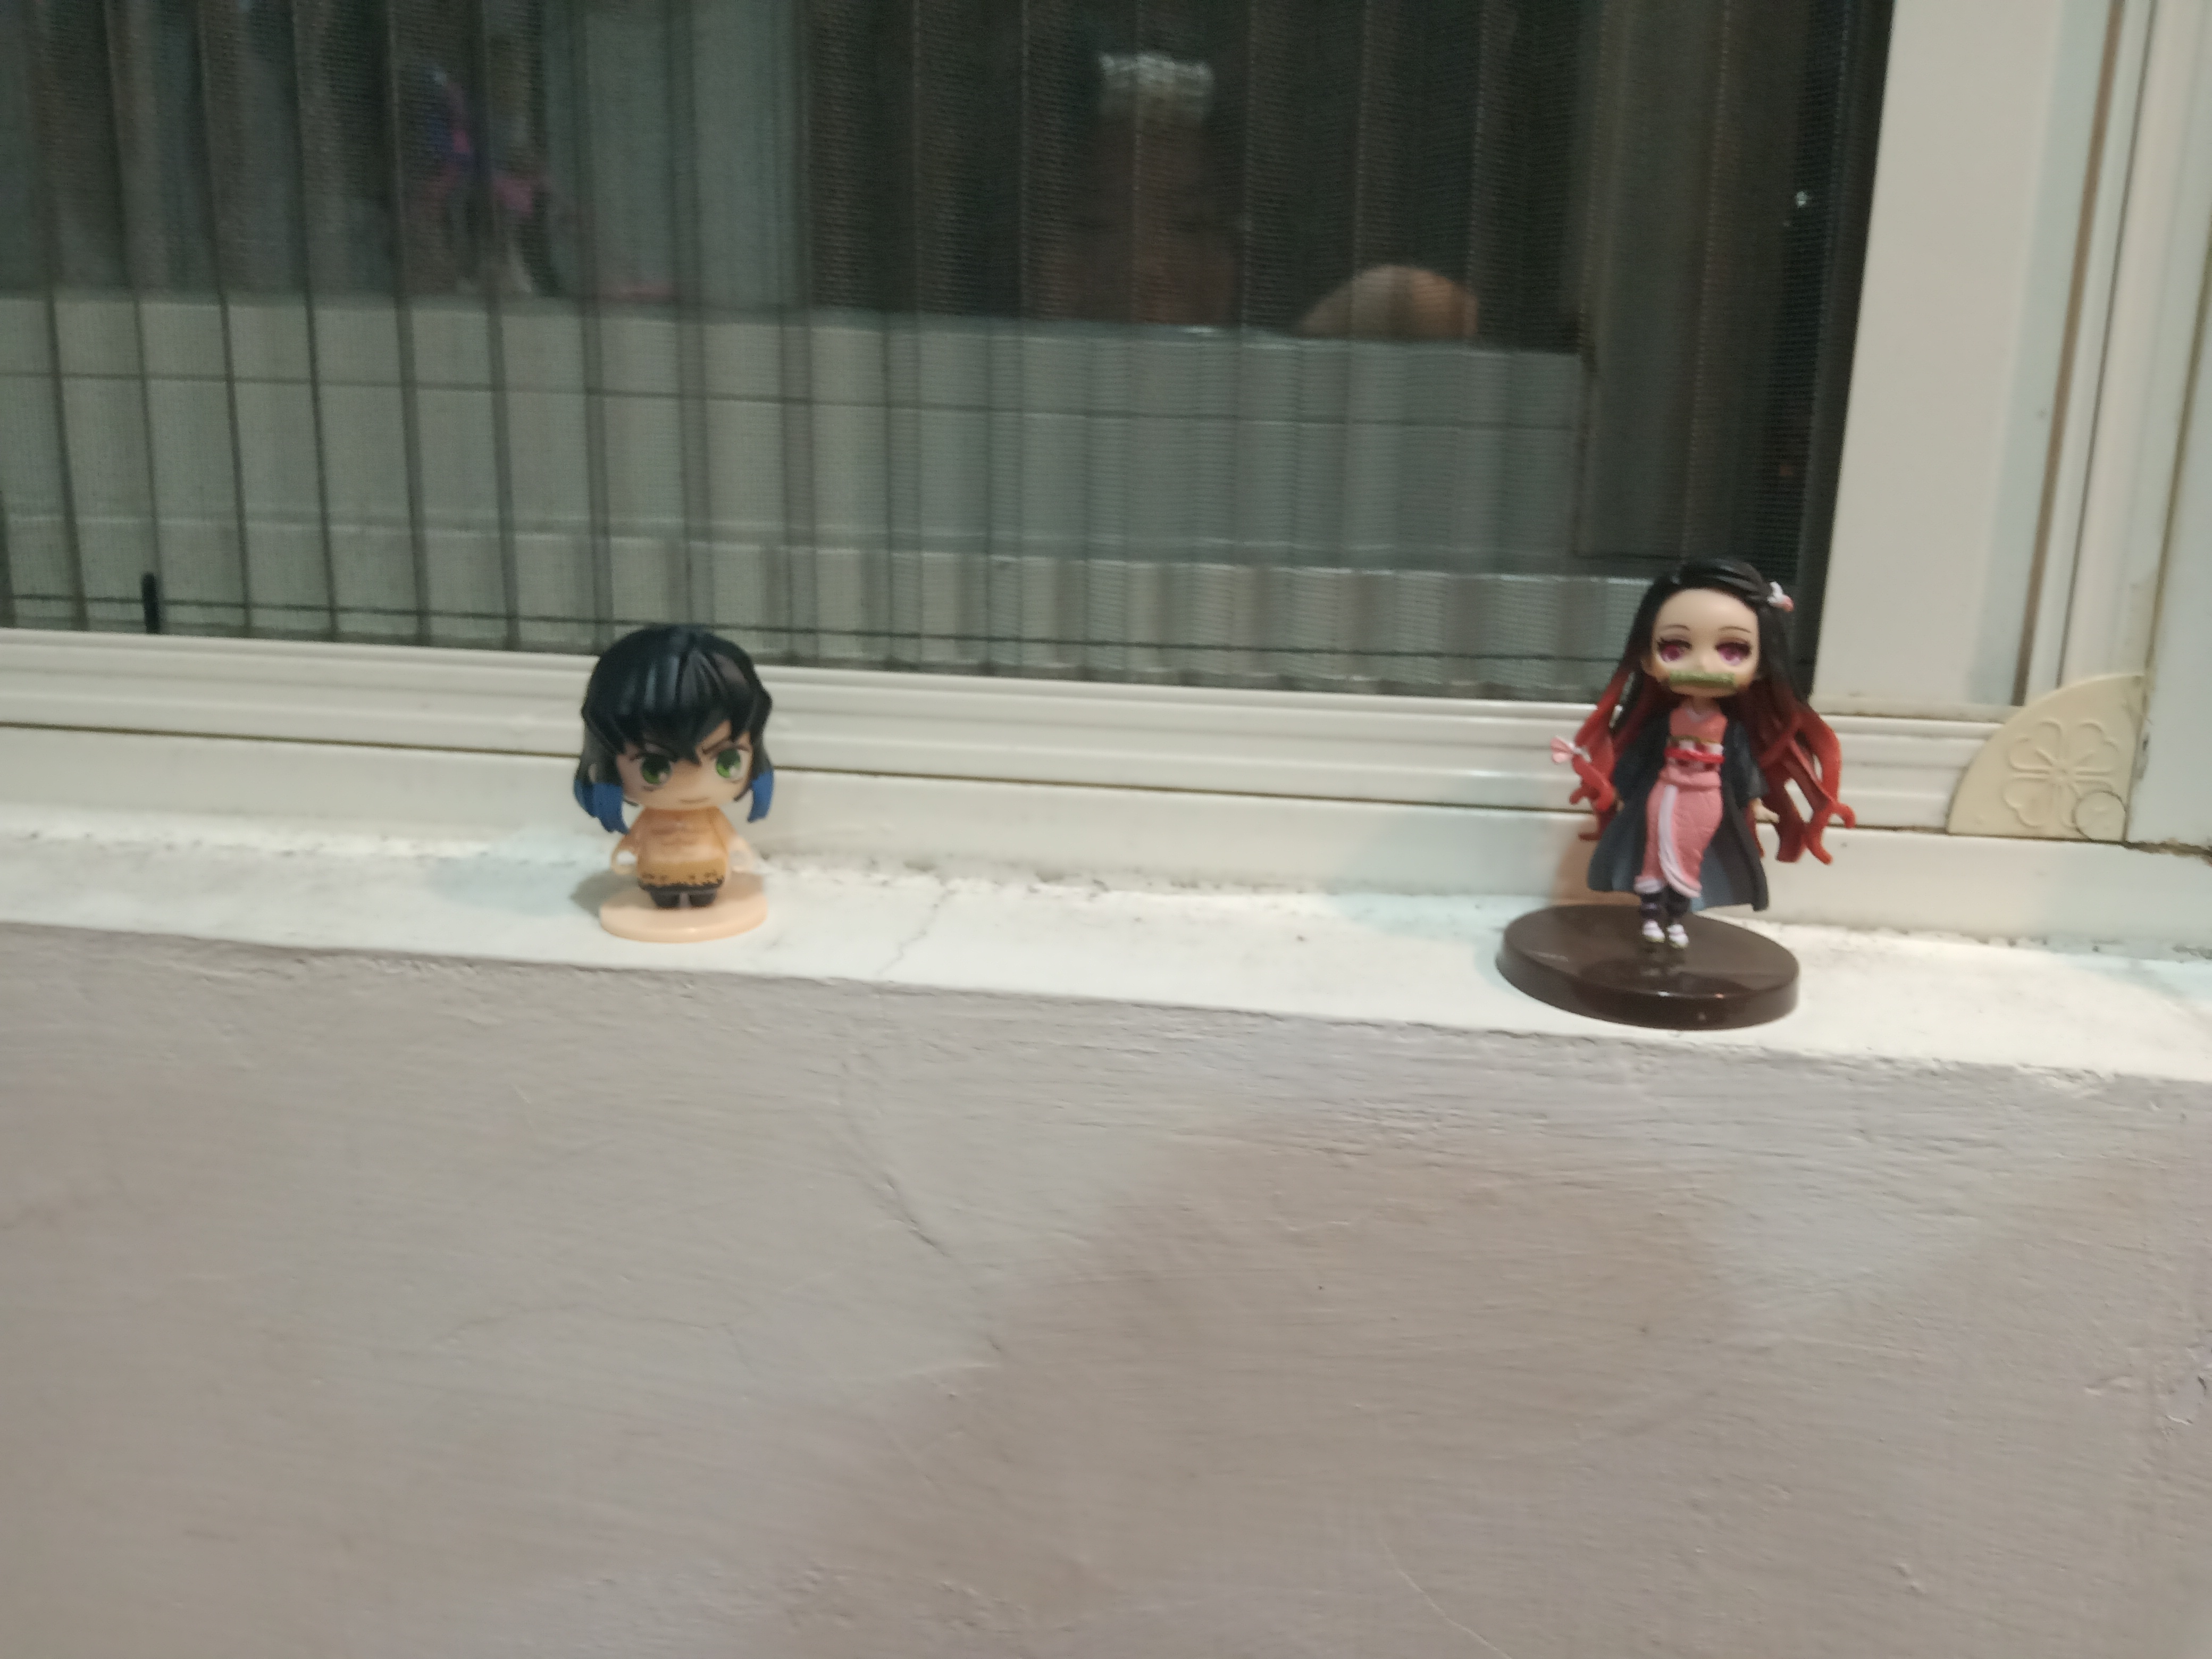Inosuke: (538, 606, 806, 974)
Nezuko: (1480, 532, 1853, 1054)
